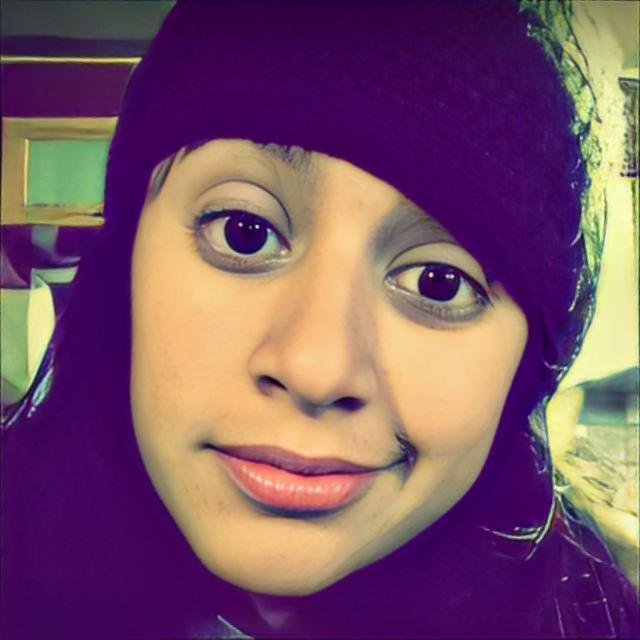content: (129, 134, 532, 600)
